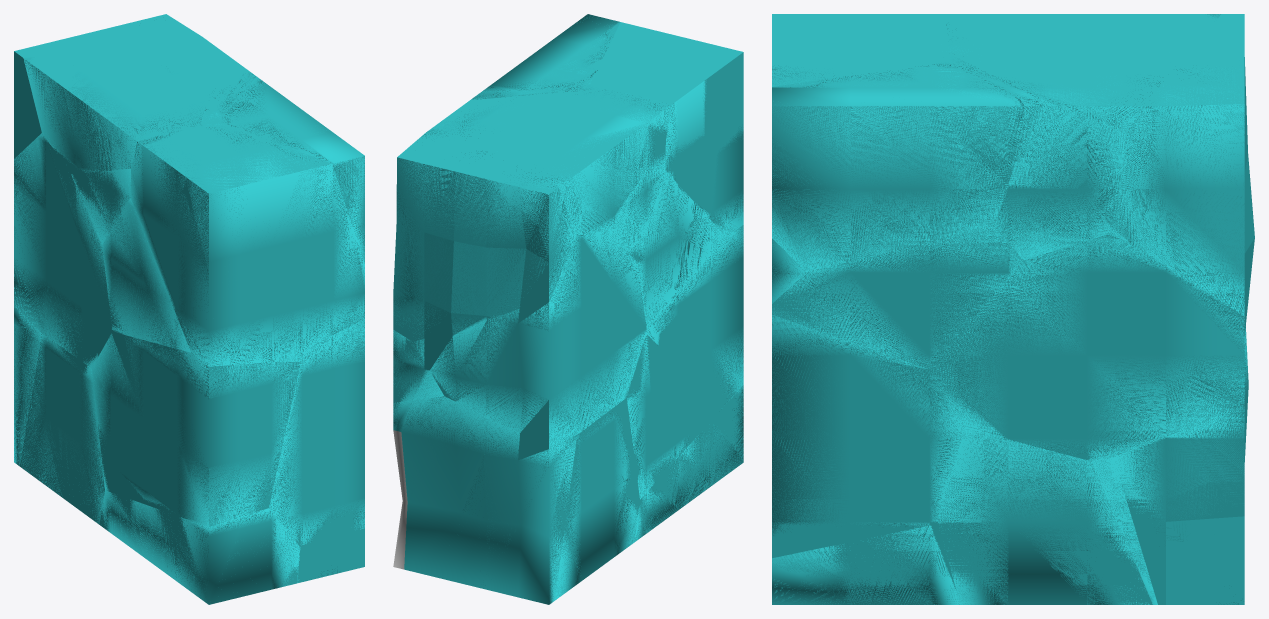
File: Bar_Wood.fbx
3 views of the same model, side by side, from view 1: azimuth 30°, elevation 25°; view 2: azimuth 150°, elevation 25°; view 3: azimuth 270°, elevation 25° (orthographic). The views are drawn at different scales.
Visible parts, largest first — view 1: Bar_Wood.000, Bar_Wood.000_shard.011, Bar_Wood.000_shard.006, Bar_Wood.000_shard.005, Bar_Wood.000_shard.009, Bar_Wood.000_shard.014, Bar_Wood.000_shard.008, Bar_Wood.000_shard, Bar_Wood.000_shard.010, Bar_Wood.000_shard.004, Bar_Wood.000_shard.001, Bar_Wood.000_shard.002; view 2: Bar_Wood.000, Bar_Wood.000_shard.002, Bar_Wood.000_shard.009, Bar_Wood.000_shard.013, Bar_Wood.000_shard.006, Bar_Wood.000_shard.008, Bar_Wood.000_shard.004, Bar_Wood.000_shard, Bar_Wood.000_shard.010, Bar_Wood.000_shard.011, Bar_Wood.000_shard.014, Bar_Wood.000_shard.001 (+1 smaller); view 3: Bar_Wood.000, Bar_Wood.000_shard.007, Bar_Wood.000_shard.010, Bar_Wood.000_shard.005, Bar_Wood.000_shard.012, Bar_Wood.000_shard.013, Bar_Wood.000_shard, Bar_Wood.000_shard.001, Bar_Wood.000_shard.002, Bar_Wood.000_shard.003, Bar_Wood.000_shard.008, Bar_Wood.000_shard.004 (+1 smaller).
Part boxes in pixels (left/top/right/bottom): Bar_Wood.000: left=14, top=14, right=364, bottom=604; Bar_Wood.000_shard.011: left=130, top=121, right=364, bottom=366; Bar_Wood.000_shard.006: left=91, top=333, right=300, bottom=526; Bar_Wood.000_shard.005: left=269, top=328, right=364, bottom=545; Bar_Wood.000_shard.009: left=14, top=133, right=107, bottom=368; Bar_Wood.000_shard.014: left=101, top=490, right=299, bottom=604; Bar_Wood.000_shard.008: left=23, top=57, right=231, bottom=172; Bar_Wood.000_shard: left=102, top=198, right=364, bottom=362; Bar_Wood.000_shard.010: left=218, top=77, right=364, bottom=263; Bar_Wood.000_shard.004: left=21, top=334, right=104, bottom=523; Bar_Wood.000_shard.001: left=71, top=72, right=256, bottom=244; Bar_Wood.000_shard.002: left=14, top=306, right=41, bottom=465; Bar_Wood.000: left=393, top=22, right=743, bottom=585; Bar_Wood.000_shard.002: left=393, top=396, right=576, bottom=604; Bar_Wood.000_shard.009: left=414, top=234, right=647, bottom=448; Bar_Wood.000_shard.013: left=393, top=127, right=576, bottom=338; Bar_Wood.000_shard.006: left=627, top=226, right=743, bottom=499; Bar_Wood.000_shard.008: left=440, top=89, right=671, bottom=235; Bar_Wood.000_shard.004: left=555, top=413, right=637, bottom=600; Bar_Wood.000_shard: left=637, top=171, right=725, bottom=330; Bar_Wood.000_shard.010: left=481, top=14, right=620, bottom=92; Bar_Wood.000_shard.011: left=609, top=80, right=743, bottom=236; Bar_Wood.000_shard.014: left=634, top=386, right=743, bottom=542; Bar_Wood.000_shard.001: left=471, top=85, right=665, bottom=256; Bar_Wood.000: left=772, top=14, right=1254, bottom=604; Bar_Wood.000_shard.007: left=930, top=234, right=1244, bottom=461; Bar_Wood.000_shard.010: left=772, top=62, right=1032, bottom=271; Bar_Wood.000_shard.005: left=772, top=315, right=964, bottom=542; Bar_Wood.000_shard.012: left=938, top=429, right=1152, bottom=604; Bar_Wood.000_shard.013: left=1114, top=61, right=1253, bottom=316; Bar_Wood.000_shard: left=772, top=226, right=1023, bottom=368; Bar_Wood.000_shard.001: left=946, top=54, right=1125, bottom=260; Bar_Wood.000_shard.002: left=1113, top=341, right=1248, bottom=604; Bar_Wood.000_shard.003: left=772, top=525, right=960, bottom=604; Bar_Wood.000_shard.008: left=946, top=14, right=1221, bottom=133; Bar_Wood.000_shard.004: left=1092, top=457, right=1157, bottom=604.
Bounding box in the file's own units: 119 × 300 × 264.
